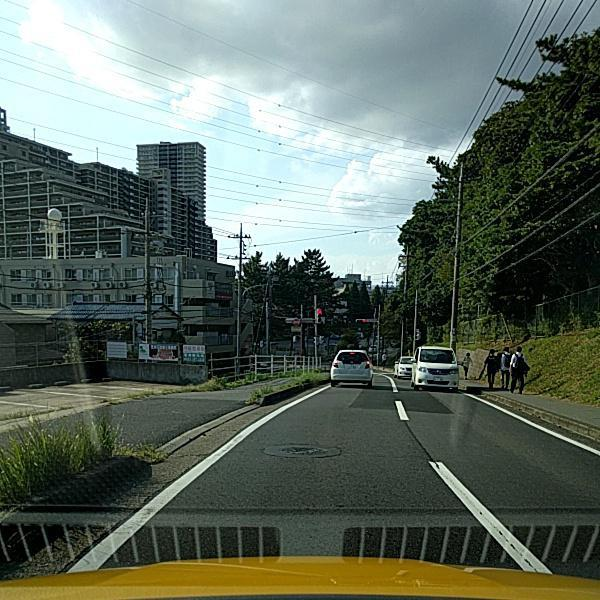D50: (278, 445, 326, 455)
